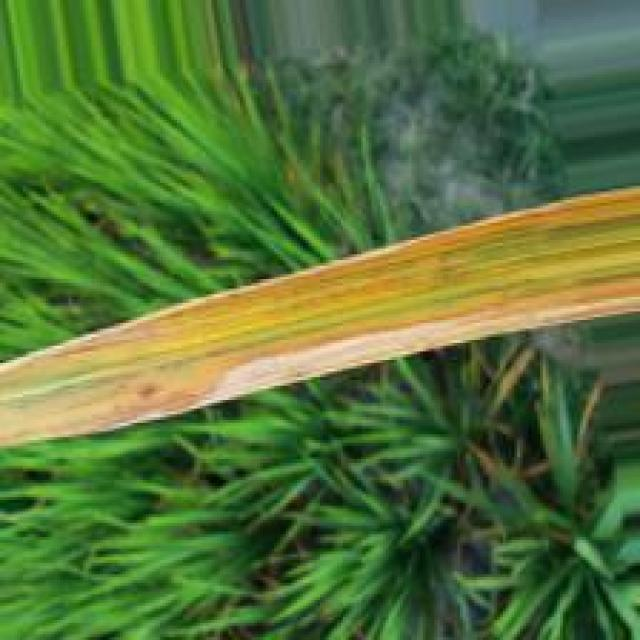Bacterial_Leaf_Blight: (2, 188, 635, 372), (0, 301, 640, 450)
